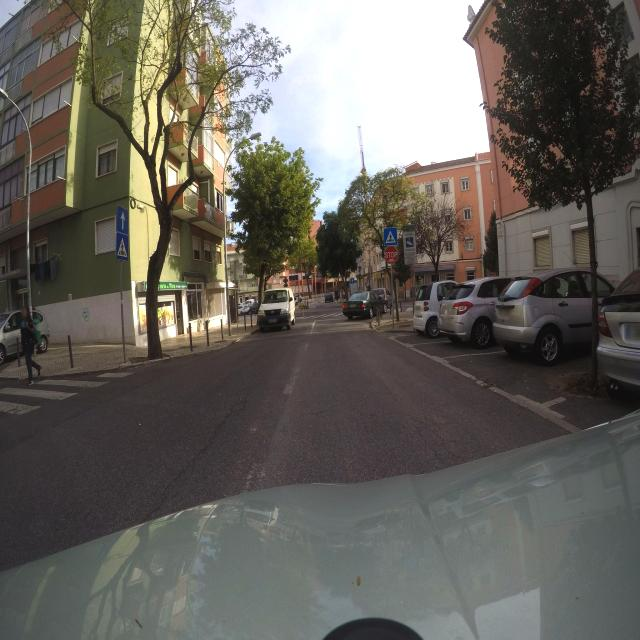car: (490, 267, 618, 366), (594, 256, 640, 412), (436, 274, 516, 348), (412, 280, 466, 338), (0, 308, 48, 365), (257, 288, 296, 332), (342, 291, 384, 320), (371, 287, 395, 311), (237, 299, 260, 316), (294, 292, 309, 309), (324, 291, 335, 303)
